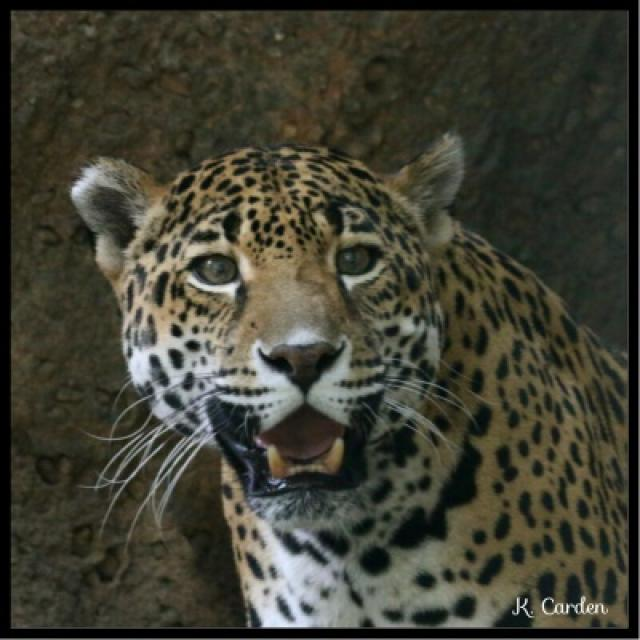Jaguar: (69, 133, 630, 632)
